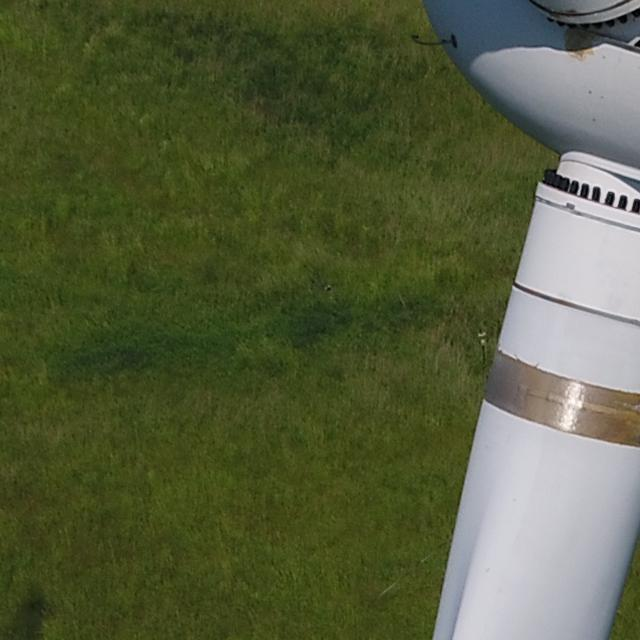damage: (556, 26, 608, 65)
